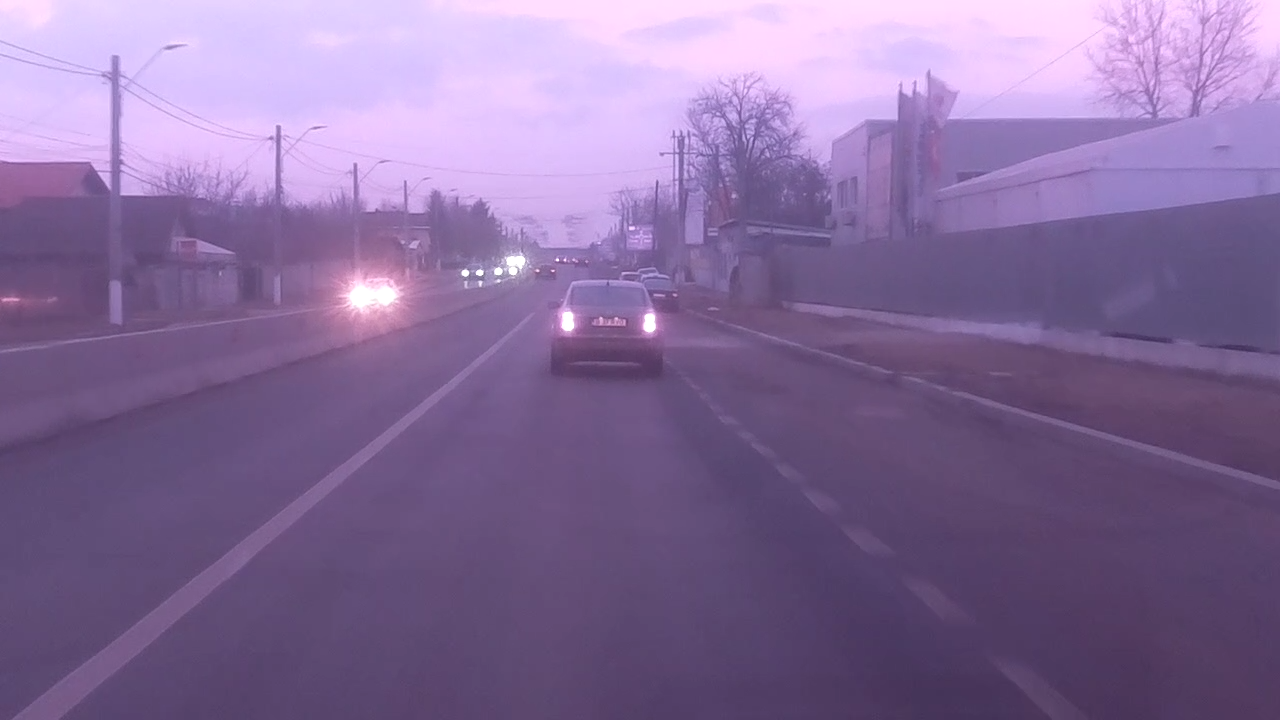license-plate: (588, 316, 628, 329)
